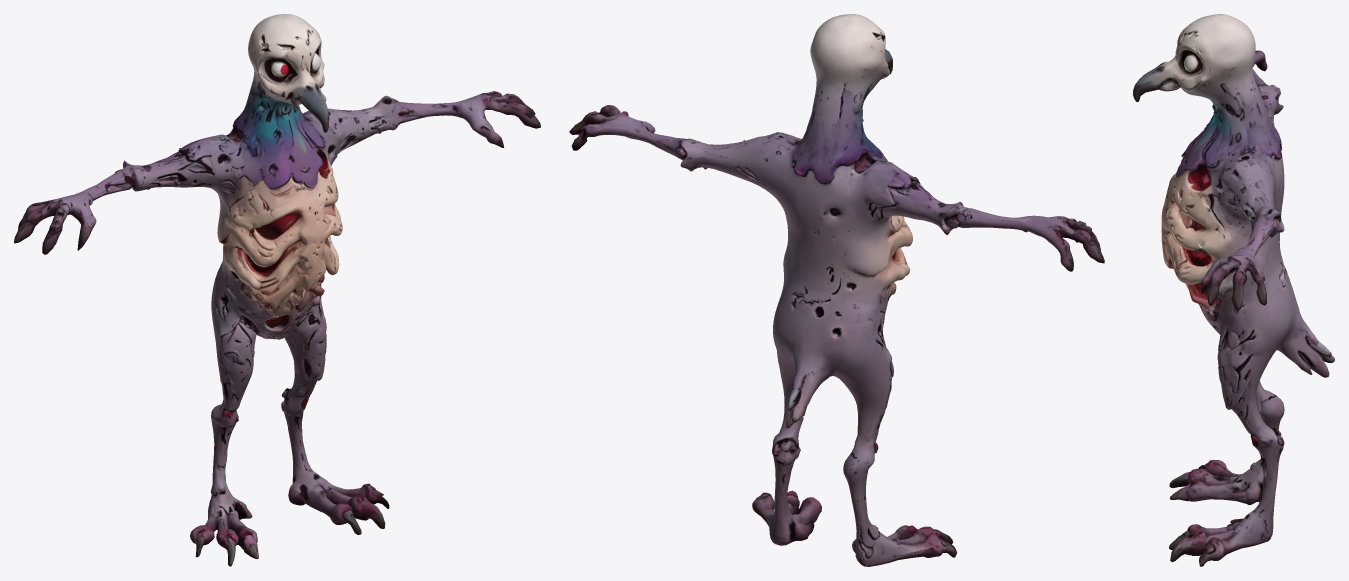
Rendered from pigeon_ghoul.glb.
The picture shows the model from 3 angles, left to right: view 1: azimuth 30°, elevation 25°; view 2: azimuth 150°, elevation 25°; view 3: azimuth 270°, elevation 25°; orthographic projection. The views are drawn at different scales.
Visible parts, largest first — view 1: tripo_node_717922e7-04b5-4812-b1e5-e9caa10b2b3c; view 2: tripo_node_717922e7-04b5-4812-b1e5-e9caa10b2b3c; view 3: tripo_node_717922e7-04b5-4812-b1e5-e9caa10b2b3c.
Part boxes in pixels (bbox=[...]): tripo_node_717922e7-04b5-4812-b1e5-e9caa10b2b3c: bbox=[14, 14, 540, 566]; tripo_node_717922e7-04b5-4812-b1e5-e9caa10b2b3c: bbox=[569, 14, 1104, 566]; tripo_node_717922e7-04b5-4812-b1e5-e9caa10b2b3c: bbox=[1133, 14, 1334, 566].
Bounding box in the file's own units: 0.9817 × 0.9214 × 0.3321.
1 material, 1 textured.
